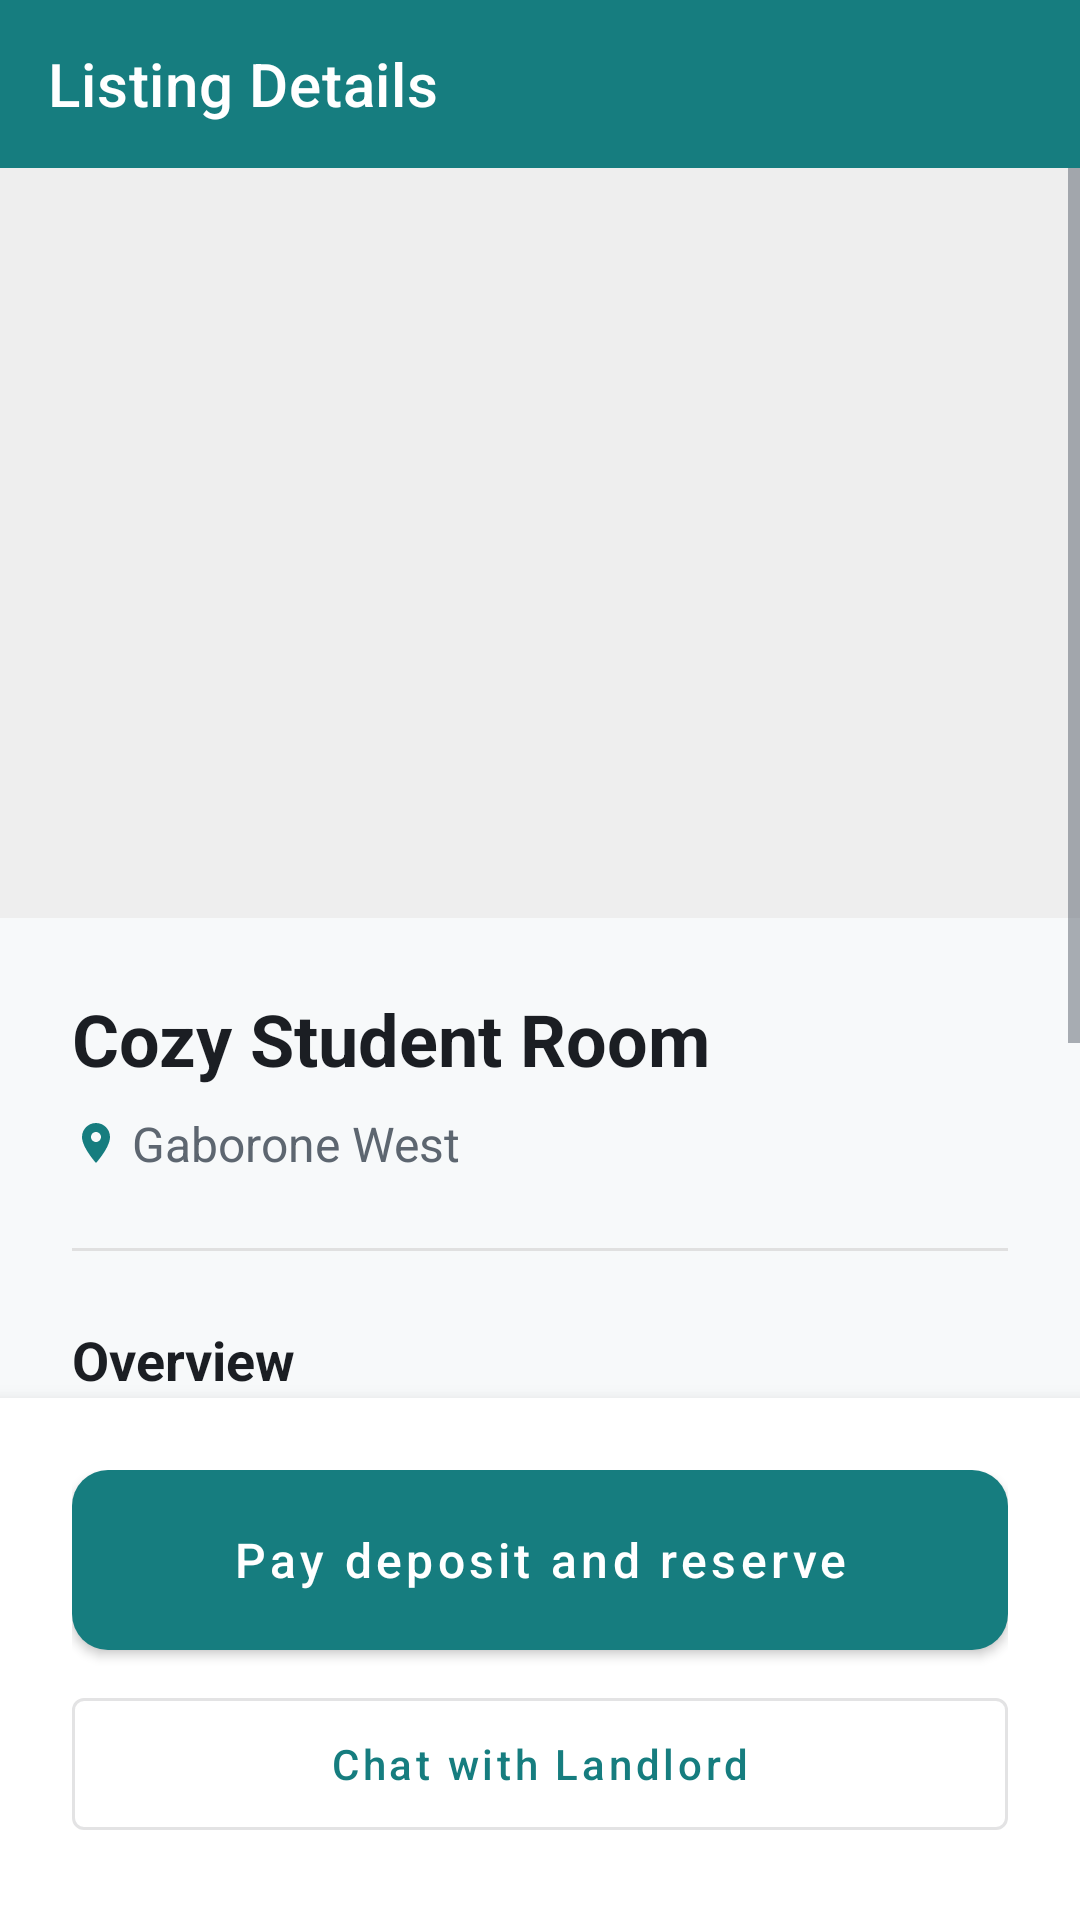

Named icons in this screenshot (1080x1920) and their bounding boxes, rect(x1, y1, x2, y2):
location: rect(82, 1123, 110, 1163)
